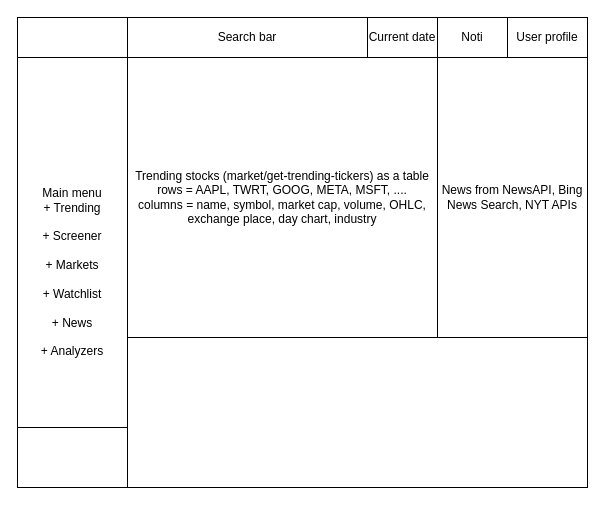
The diagram is 605 pixels wide and 505 high, and some of its shapes have lost their labels. The centre of each missing label's shape, as x and y in pixels:
App name: pixel 72 37
Daily movers (market/v2/get-movers) returns the most daily actives and gainers: pixel 357 412
Dark model / Light mode: pixel 72 457
